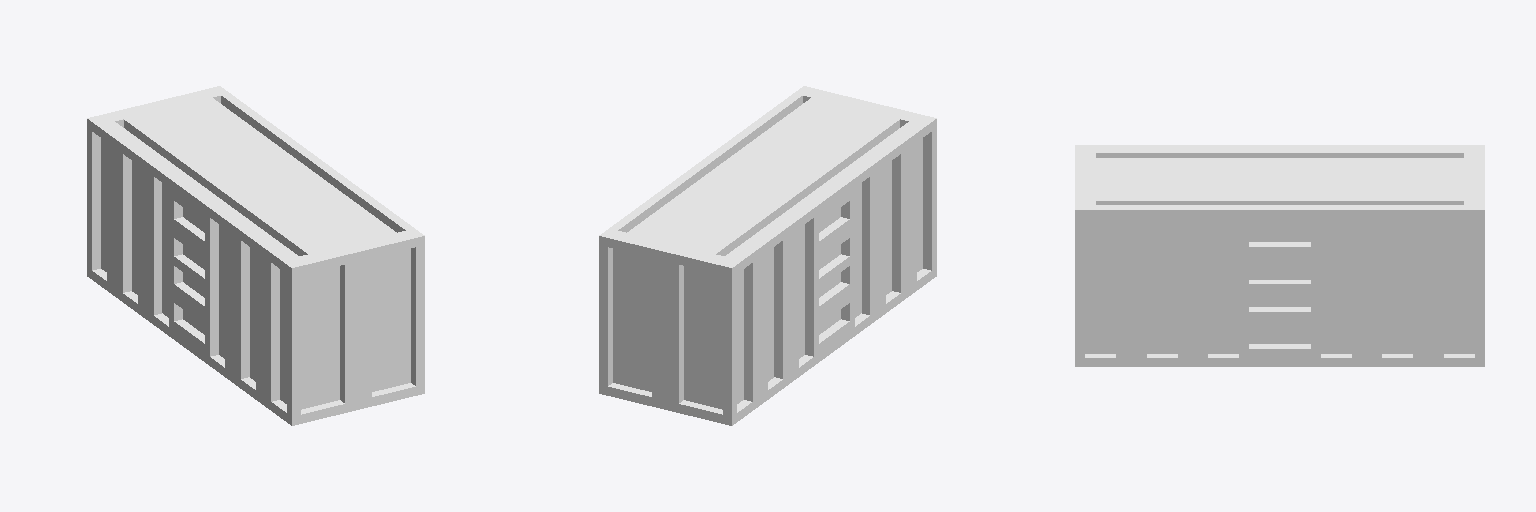
File: Container.obj
3 views of the same model, side by side, from view 1: azimuth 30°, elevation 25°; view 2: azimuth 150°, elevation 25°; view 3: azimuth 270°, elevation 25° (orthographic).
Parts seen in each view (by area): view 1: object 1; view 2: object 1; view 3: object 1.
Boxes of the visible parts, <box> form: object 1: <box>87,86,424,425</box>; object 1: <box>599,86,936,425</box>; object 1: <box>1075,145,1484,366</box>.
Bounding box in the file's own units: 1.5 × 1.7 × 4.